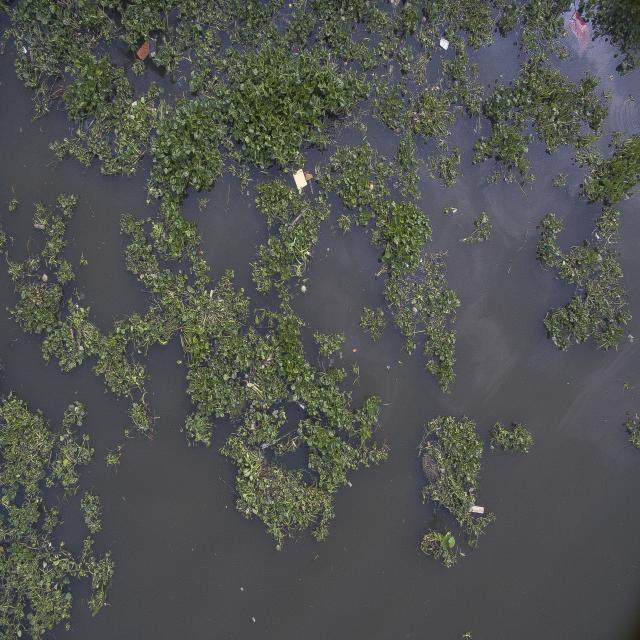plastic: (562, 7, 596, 52), (134, 33, 163, 72), (288, 168, 318, 200), (466, 498, 495, 530), (434, 30, 457, 53), (71, 338, 89, 358), (296, 274, 309, 296), (40, 268, 51, 289)
